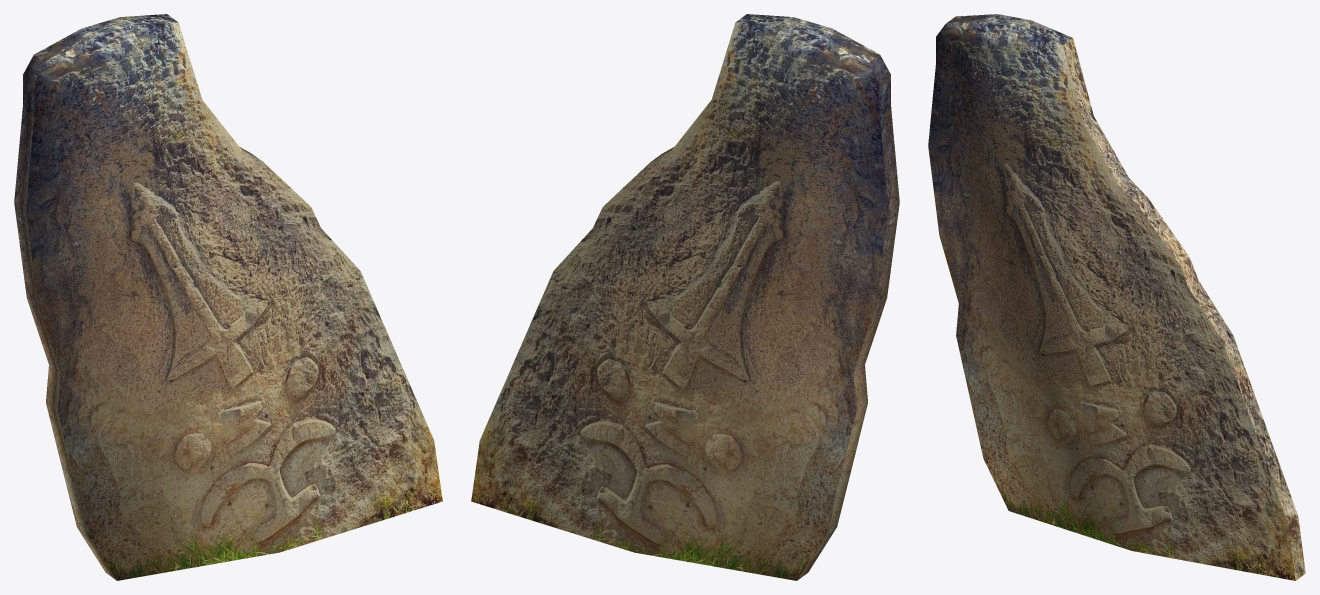
The model's file is Rock5.FBX.
3 renders of one model, left to right at view 1: azimuth 30°, elevation 25°; view 2: azimuth 150°, elevation 25°; view 3: azimuth 330°, elevation 25°, orthographic. The views are drawn at different scales.
Parts seen in each view (by area): view 1: 5Rock; view 2: 5Rock; view 3: 5Rock.
Part boxes in pixels (bbox=[...]): 5Rock: bbox=[14, 14, 442, 580]; 5Rock: bbox=[471, 14, 899, 580]; 5Rock: bbox=[928, 14, 1305, 580].
Size of the model in its own units: 6.94 by 8.78 by 1.
